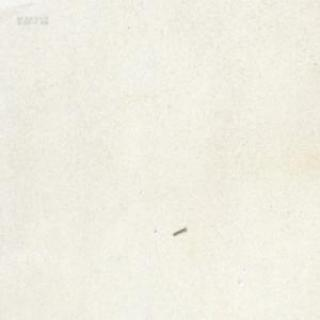Bolttrack_idkeyframe: (171, 225, 185, 235)
